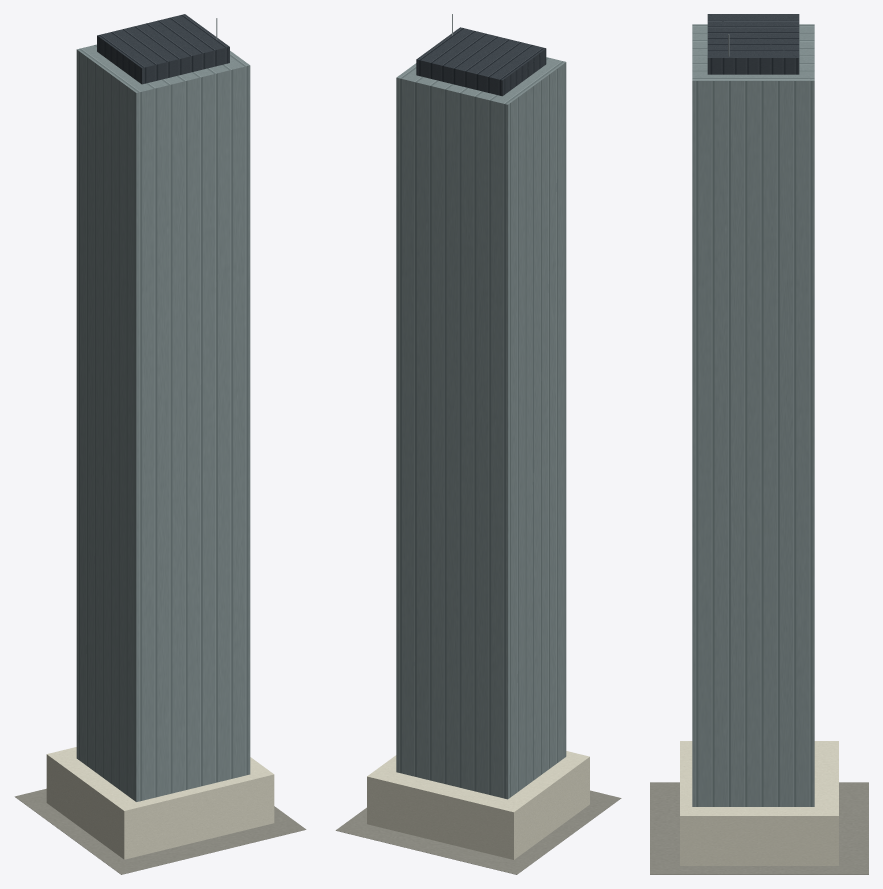
File: office_tower_002.lod2.obj
3 views of the same model, side by side, from view 1: azimuth 30°, elevation 25°; view 2: azimuth 150°, elevation 25°; view 3: azimuth 270°, elevation 25° (orthographic). The views are drawn at different scales.
Parts seen in each view (by area): view 1: office_tower_002.lod2; view 2: office_tower_002.lod2; view 3: office_tower_002.lod2.
Part boxes in pixels (x1,y1,x2,y2): office_tower_002.lod2: (14, 14, 306, 874); office_tower_002.lod2: (335, 14, 621, 874); office_tower_002.lod2: (650, 14, 868, 874).
Size of the model in its own units: 35.8 by 147 by 35.8.
1 material, 1 textured.
